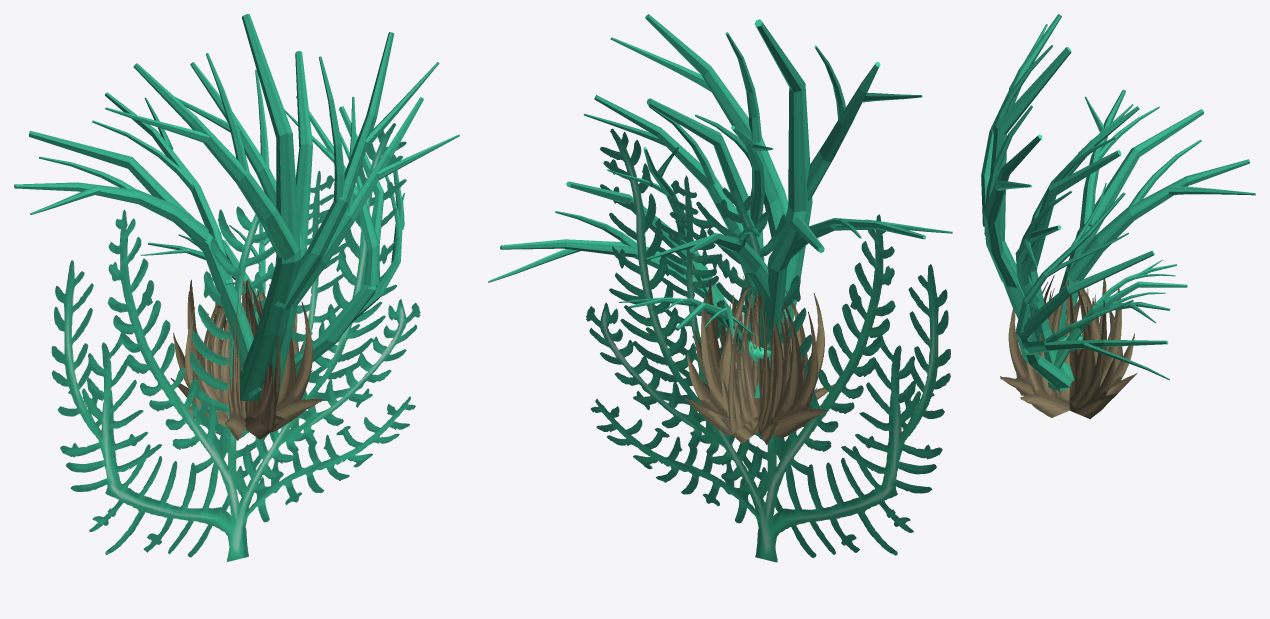
File: Glow_plants_01.fbx
3 views of the same model, side by side, from view 1: azimuth 30°, elevation 25°; view 2: azimuth 150°, elevation 25°; view 3: azimuth 270°, elevation 25° (orthographic). The views are drawn at different scales.
Visible parts, largest first — view 1: Glow_plant_01, Glow_plant_02, Glow_plant_05, Glow_plant_04; view 2: Glow_plant_01, Glow_plant_02, Glow_plant_05, Glow_plant_04; view 3: Glow_plant_02, Glow_plant_05.
Boxes of the visible parts, x1,y1,x2,y2 form: Glow_plant_01: (51, 123, 420, 561); Glow_plant_02: (14, 14, 459, 400); Glow_plant_05: (170, 263, 322, 440); Glow_plant_04: (192, 292, 298, 431); Glow_plant_01: (586, 128, 950, 562); Glow_plant_02: (488, 14, 952, 398); Glow_plant_05: (684, 276, 834, 445); Glow_plant_04: (714, 297, 810, 433); Glow_plant_02: (981, 14, 1255, 391); Glow_plant_05: (1000, 275, 1136, 419).
Bounding box in the file's own units: 1.57 × 1.93 × 1.01.
Materials: 1 (1 with a texture image).
